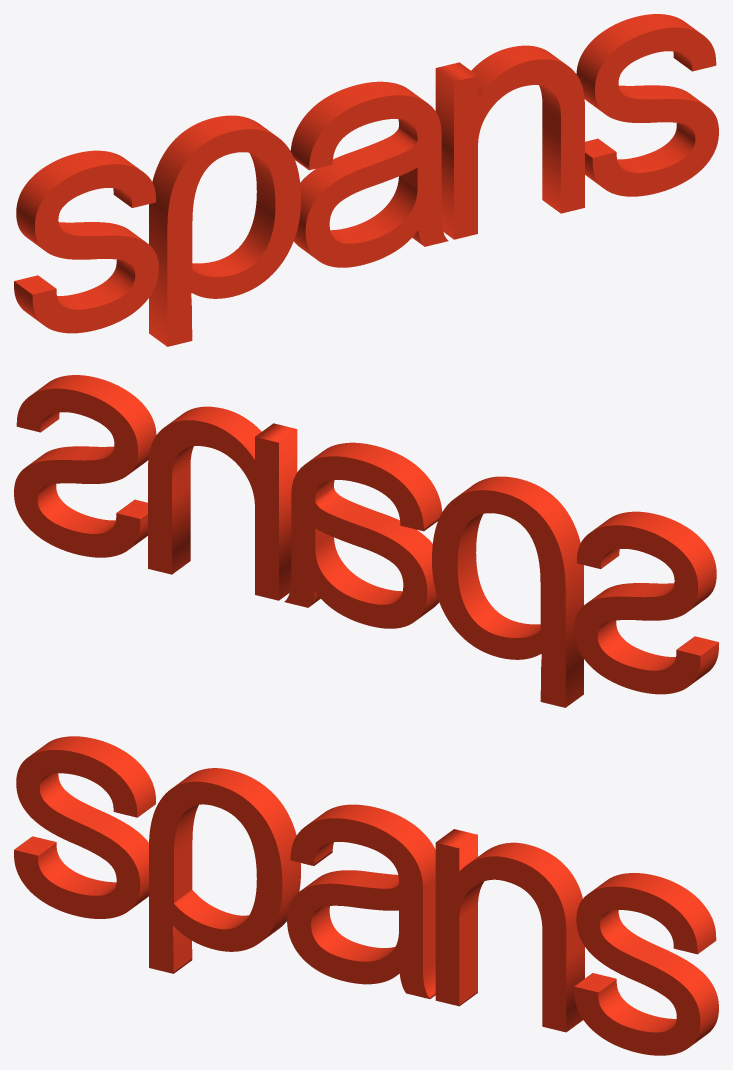
File: SpansNoAnim.glb
3 renders of one model, top to bottom at view 1: azimuth 30°, elevation 25°; view 2: azimuth 150°, elevation 25°; view 3: azimuth 330°, elevation 25°, orthographic.
Visible parts, largest first — view 1: Curve.004, Curve.001, Curve, Curve.003, Curve.002; view 2: Curve.004, Curve.001, Curve, Curve.003, Curve.002; view 3: Curve.004, Curve.001, Curve.002, Curve, Curve.003.
Part boxes in pixels (<box>): Curve.004: <box>290,81,448,267</box>; Curve.001: <box>149,115,300,346</box>; Curve: <box>14,150,158,333</box>; Curve.003: <box>435,45,584,239</box>; Curve.002: <box>576,14,718,196</box>; Curve.004: <box>284,442,442,628</box>; Curve.001: <box>432,476,583,707</box>; Curve: <box>574,511,718,694</box>; Curve.003: <box>148,406,297,600</box>; Curve.002: <box>14,375,156,557</box>; Curve.004: <box>287,804,435,998</box>; Curve.001: <box>149,768,300,973</box>; Curve.002: <box>574,873,718,1055</box>; Curve: <box>14,736,155,918</box>; Curve.003: <box>435,829,584,1032</box>.
Size of the model in its own units: 2.63 by 0.7313 by 0.1234.
